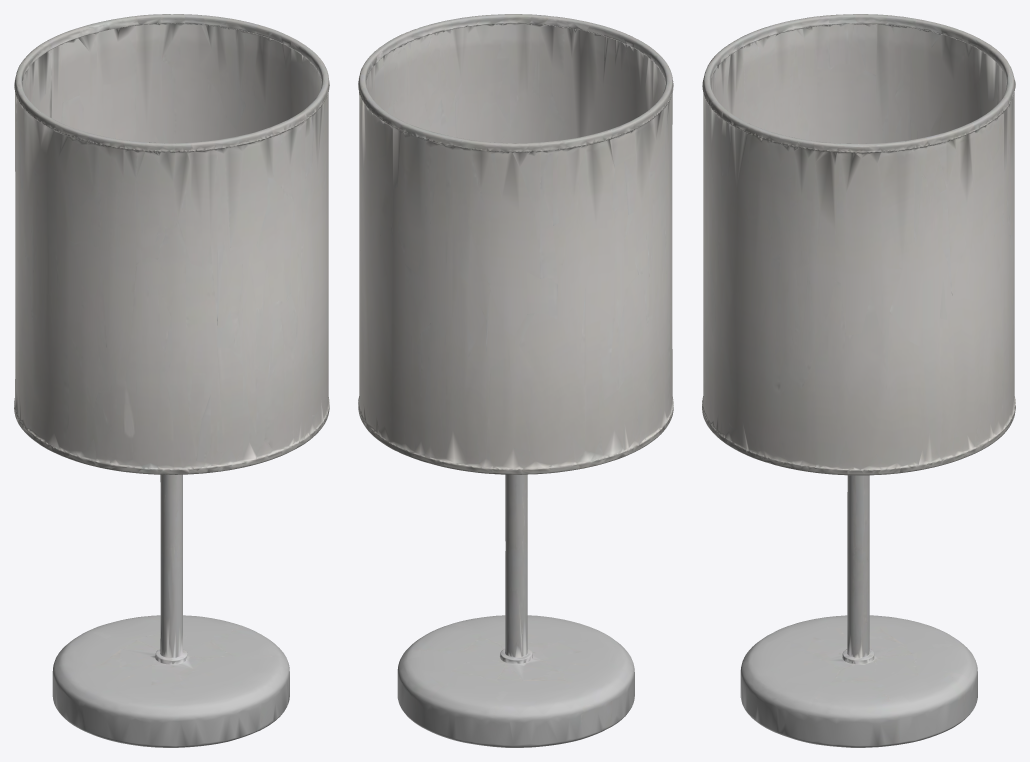
File: tischlampe-01.glb
3 views of the same model, side by side, from view 1: azimuth 30°, elevation 25°; view 2: azimuth 150°, elevation 25°; view 3: azimuth 270°, elevation 25° (orthographic).
Size of the model in its own units: 0.8756 by 1.9 by 0.8703.
Materials: 1 (1 with a texture image).
